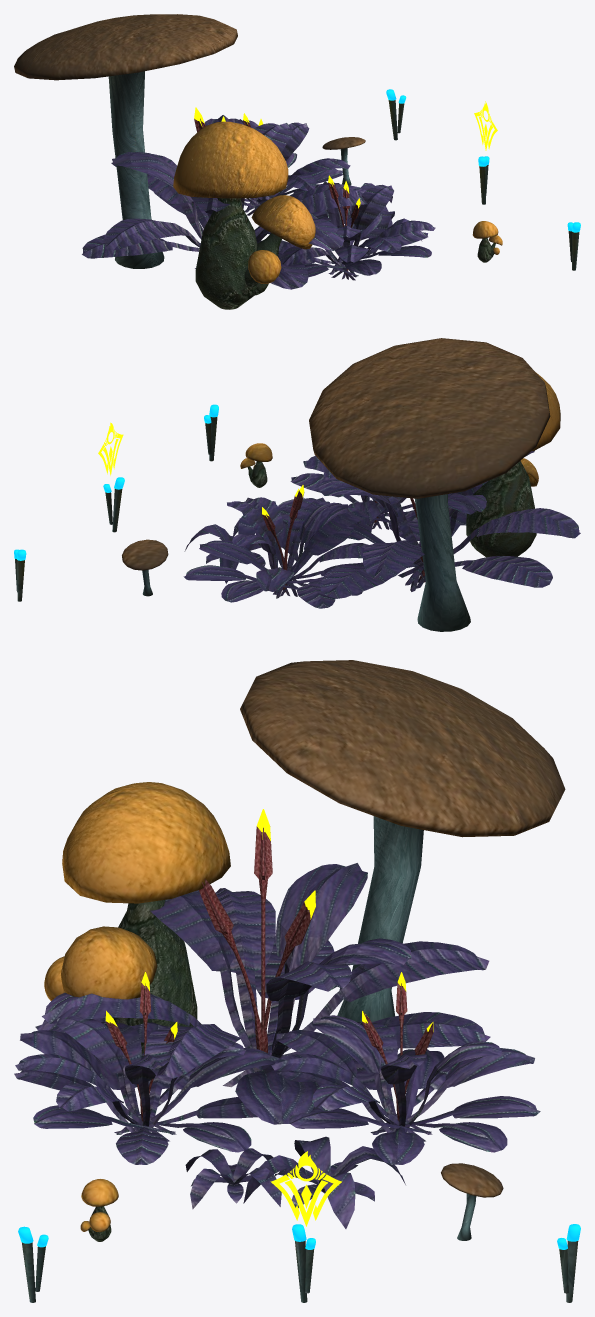
File: track4Edge.glb
The picture shows the model from 3 angles, top to bottom: view 1: azimuth 30°, elevation 25°; view 2: azimuth 150°, elevation 25°; view 3: azimuth 270°, elevation 25°; orthographic projection. The views are drawn at different scales.
Parts seen in each view (by area): view 1: track4Edge; view 2: track4Edge; view 3: track4Edge.
Part boxes in pixels (box(x1,y1,x2,y2)): track4Edge: box(14, 14, 580, 309); track4Edge: box(14, 338, 580, 631); track4Edge: box(14, 660, 580, 1302).
Size of the model in its own units: 2.16 by 1.18 by 1.63.
Materials: 3 (1 with a texture image).
